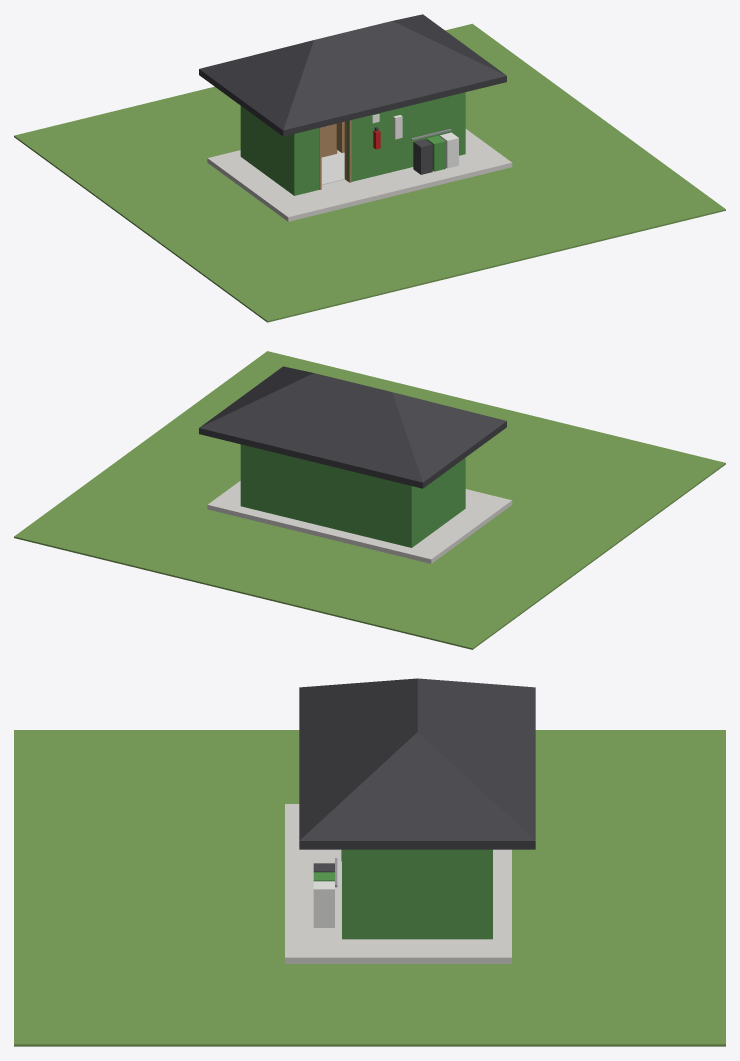
File: banos_mujeres.glb
3 renders of one model, top to bottom at view 1: azimuth 30°, elevation 25°; view 2: azimuth 150°, elevation 25°; view 3: azimuth 270°, elevation 25°, orthographic. The views are drawn at different scales.
Parts seen in each view (by area): view 1: Baño para mujeres; view 2: Baño para mujeres; view 3: Baño para mujeres.
Boxes of the visible parts, x1,y1,x2,y2 form: Baño para mujeres: (14,14,725,322); Baño para mujeres: (14,351,725,649); Baño para mujeres: (14,678,725,1046).
Size of the model in its own units: 15.64 by 4.27 by 14.97.
